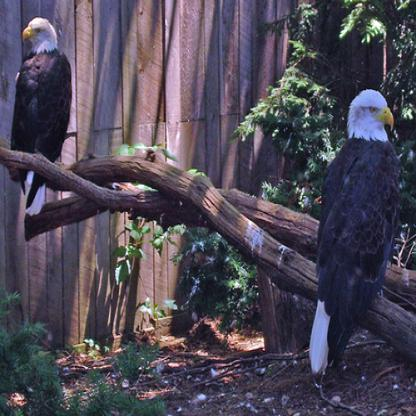bird: (309, 90, 400, 374), (9, 17, 72, 217)
